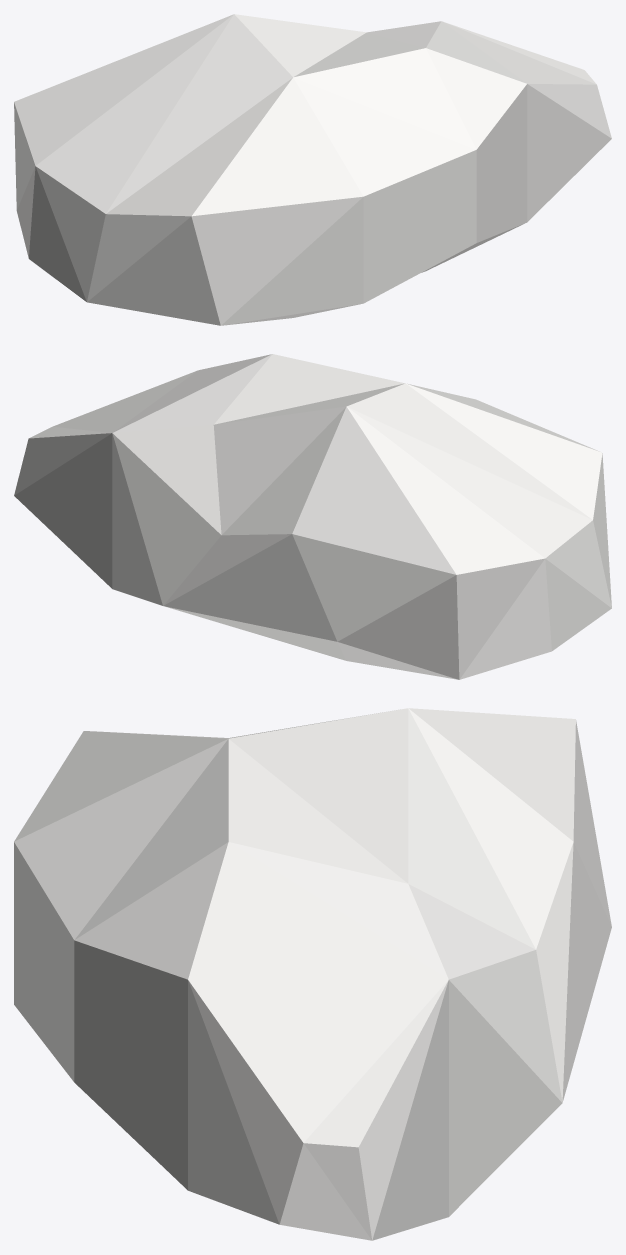
The model's file is Isl_2_Cloud_1.fbx.
3 views of the same model, one above another, from view 1: azimuth 30°, elevation 25°; view 2: azimuth 150°, elevation 25°; view 3: azimuth 270°, elevation 25° (orthographic). The views are drawn at different scales.
Visible parts, largest first — view 1: Isl_2_Cloud_1; view 2: Isl_2_Cloud_1; view 3: Isl_2_Cloud_1.
Part boxes in pixels (x1,y1,x2,y2): Isl_2_Cloud_1: (14,14,611,325); Isl_2_Cloud_1: (14,354,611,679); Isl_2_Cloud_1: (14,708,611,1240).
Bounding box in the file's own units: 517 × 320 × 234.
1 material, 1 textured.
